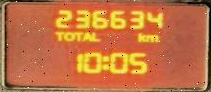0: (82, 50, 100, 73), (109, 51, 127, 74)
1: (75, 52, 82, 73)
2: (54, 7, 71, 29)
3: (74, 9, 91, 28), (128, 8, 143, 29)
4: (144, 10, 164, 29)
5: (128, 51, 147, 74)
6: (90, 9, 108, 28), (109, 9, 126, 29)
X: (100, 53, 108, 70), (145, 34, 160, 43), (73, 30, 84, 41), (63, 30, 73, 41), (53, 30, 63, 41), (90, 31, 101, 41), (135, 31, 145, 42), (83, 31, 91, 42)
